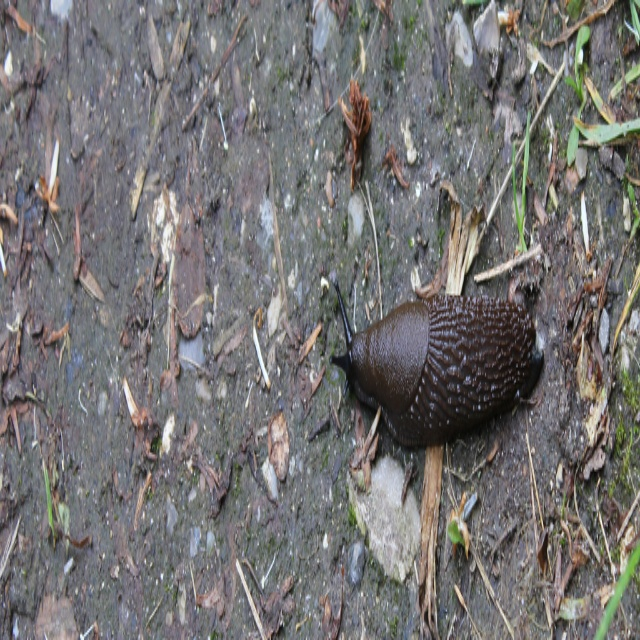Snail: (327, 282, 543, 449)
